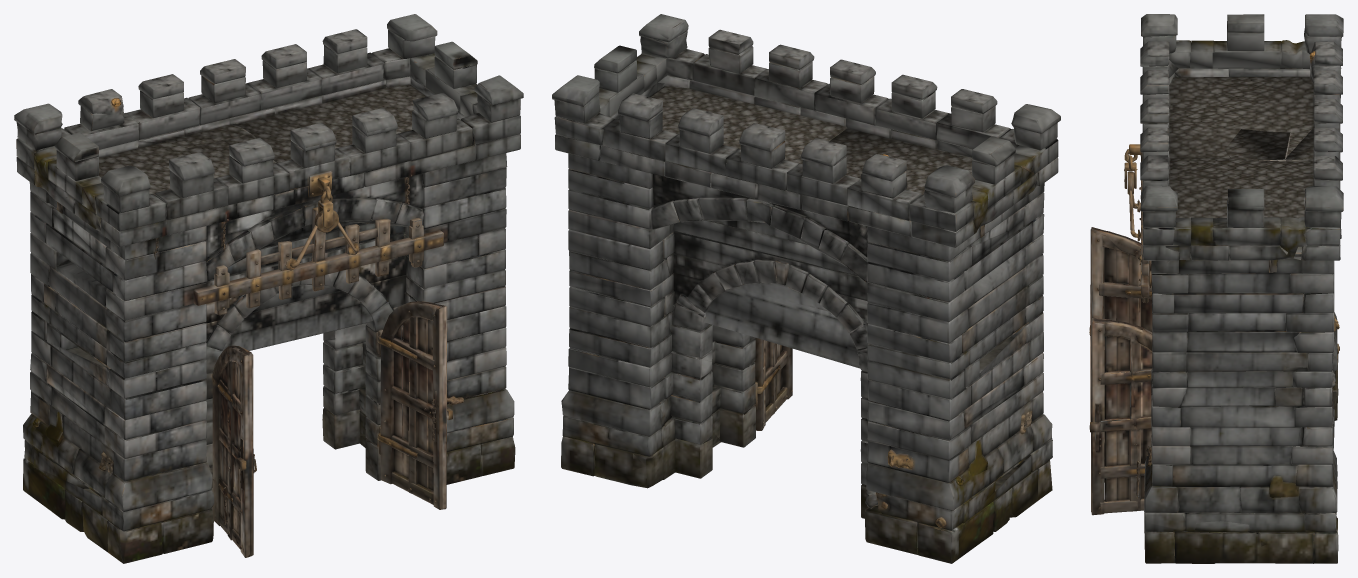
The model's file is cas-gate.glb.
3 renders of one model, left to right at view 1: azimuth 30°, elevation 25°; view 2: azimuth 150°, elevation 25°; view 3: azimuth 270°, elevation 25°, orthographic. The views are drawn at different scales.
Bounding box in the file's own units: 0.9561 × 0.8579 × 0.5381.
1 material, 1 textured.
